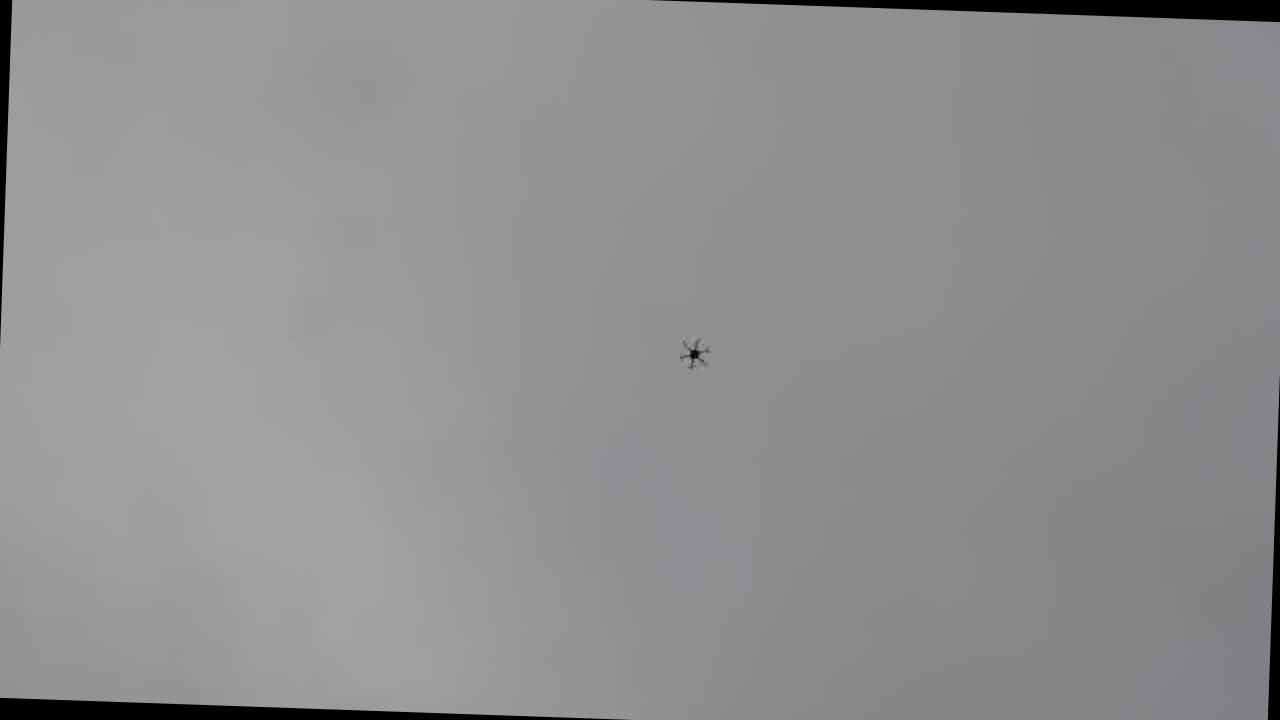drone: (675, 330, 712, 370)
